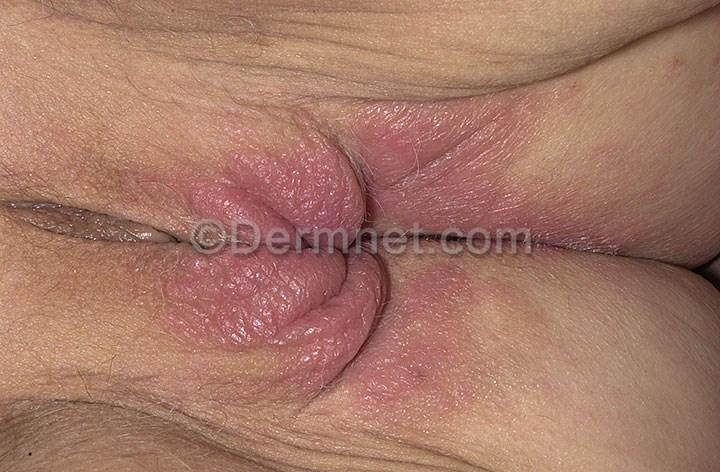Eczema: (380, 173, 456, 238), (530, 183, 602, 251), (461, 85, 527, 153), (364, 330, 429, 394), (452, 149, 509, 220), (332, 365, 398, 424), (366, 105, 419, 177), (302, 174, 358, 242), (181, 180, 245, 236), (421, 255, 476, 316), (523, 84, 576, 146), (176, 277, 235, 330), (237, 197, 289, 250), (391, 385, 453, 429), (432, 345, 484, 394), (255, 154, 302, 208), (282, 301, 330, 353), (303, 118, 350, 171), (414, 112, 459, 165), (474, 282, 529, 324), (499, 186, 551, 229), (655, 25, 698, 76), (581, 192, 622, 245), (416, 293, 465, 336), (379, 291, 431, 330), (274, 248, 314, 297), (232, 263, 271, 313), (325, 293, 367, 335), (537, 315, 573, 356), (349, 256, 384, 296), (585, 124, 623, 160), (312, 255, 351, 289)
